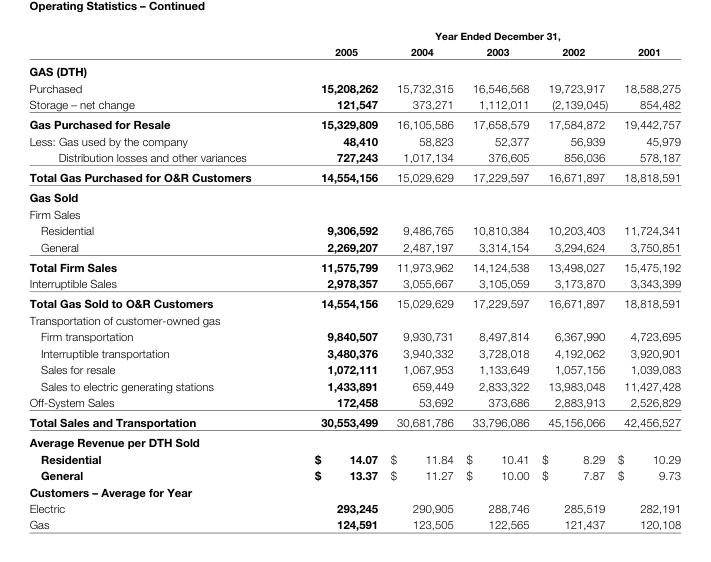table: (28, 28, 680, 530)
table column: (28, 28, 282, 530), (282, 28, 383, 530), (534, 28, 612, 530), (383, 28, 459, 530), (459, 28, 534, 530), (612, 28, 680, 530)
table column header: (28, 28, 680, 60)
table projected row header: (28, 60, 680, 79), (28, 186, 680, 205), (28, 431, 680, 450), (28, 205, 680, 221), (28, 311, 680, 327), (28, 483, 680, 499)
table row: (28, 166, 680, 186), (28, 411, 680, 431), (28, 60, 680, 79), (28, 113, 680, 132), (28, 186, 680, 205), (28, 274, 680, 293), (28, 431, 680, 450), (28, 42, 680, 60), (28, 95, 680, 113), (28, 148, 680, 166), (28, 238, 680, 256), (28, 256, 680, 274), (28, 293, 680, 311), (28, 393, 680, 411), (28, 221, 680, 238), (28, 327, 680, 344), (28, 376, 680, 393), (28, 466, 680, 483), (28, 79, 680, 95), (28, 132, 680, 148), (28, 205, 680, 221), (28, 311, 680, 327), (28, 344, 680, 360), (28, 360, 680, 376), (28, 450, 680, 466), (28, 483, 680, 499), (28, 499, 680, 515), (28, 515, 680, 530), (28, 28, 680, 42)
table spanning cell: (282, 28, 680, 42)
